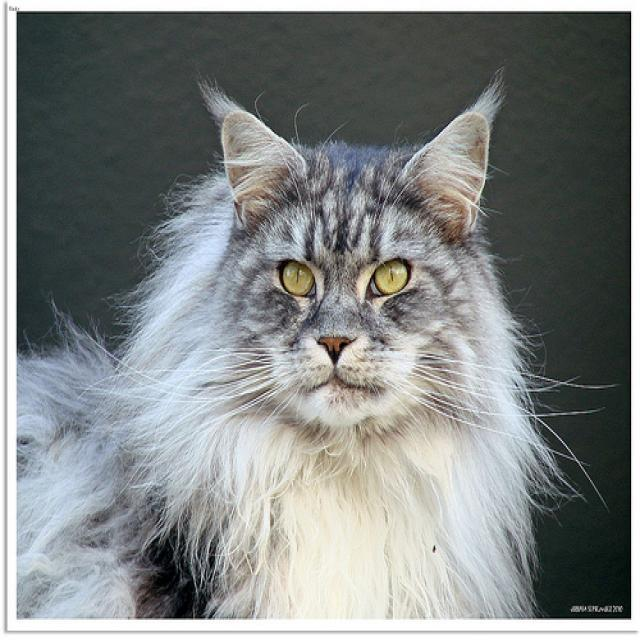Maine_Coon: (221, 106, 487, 423)
